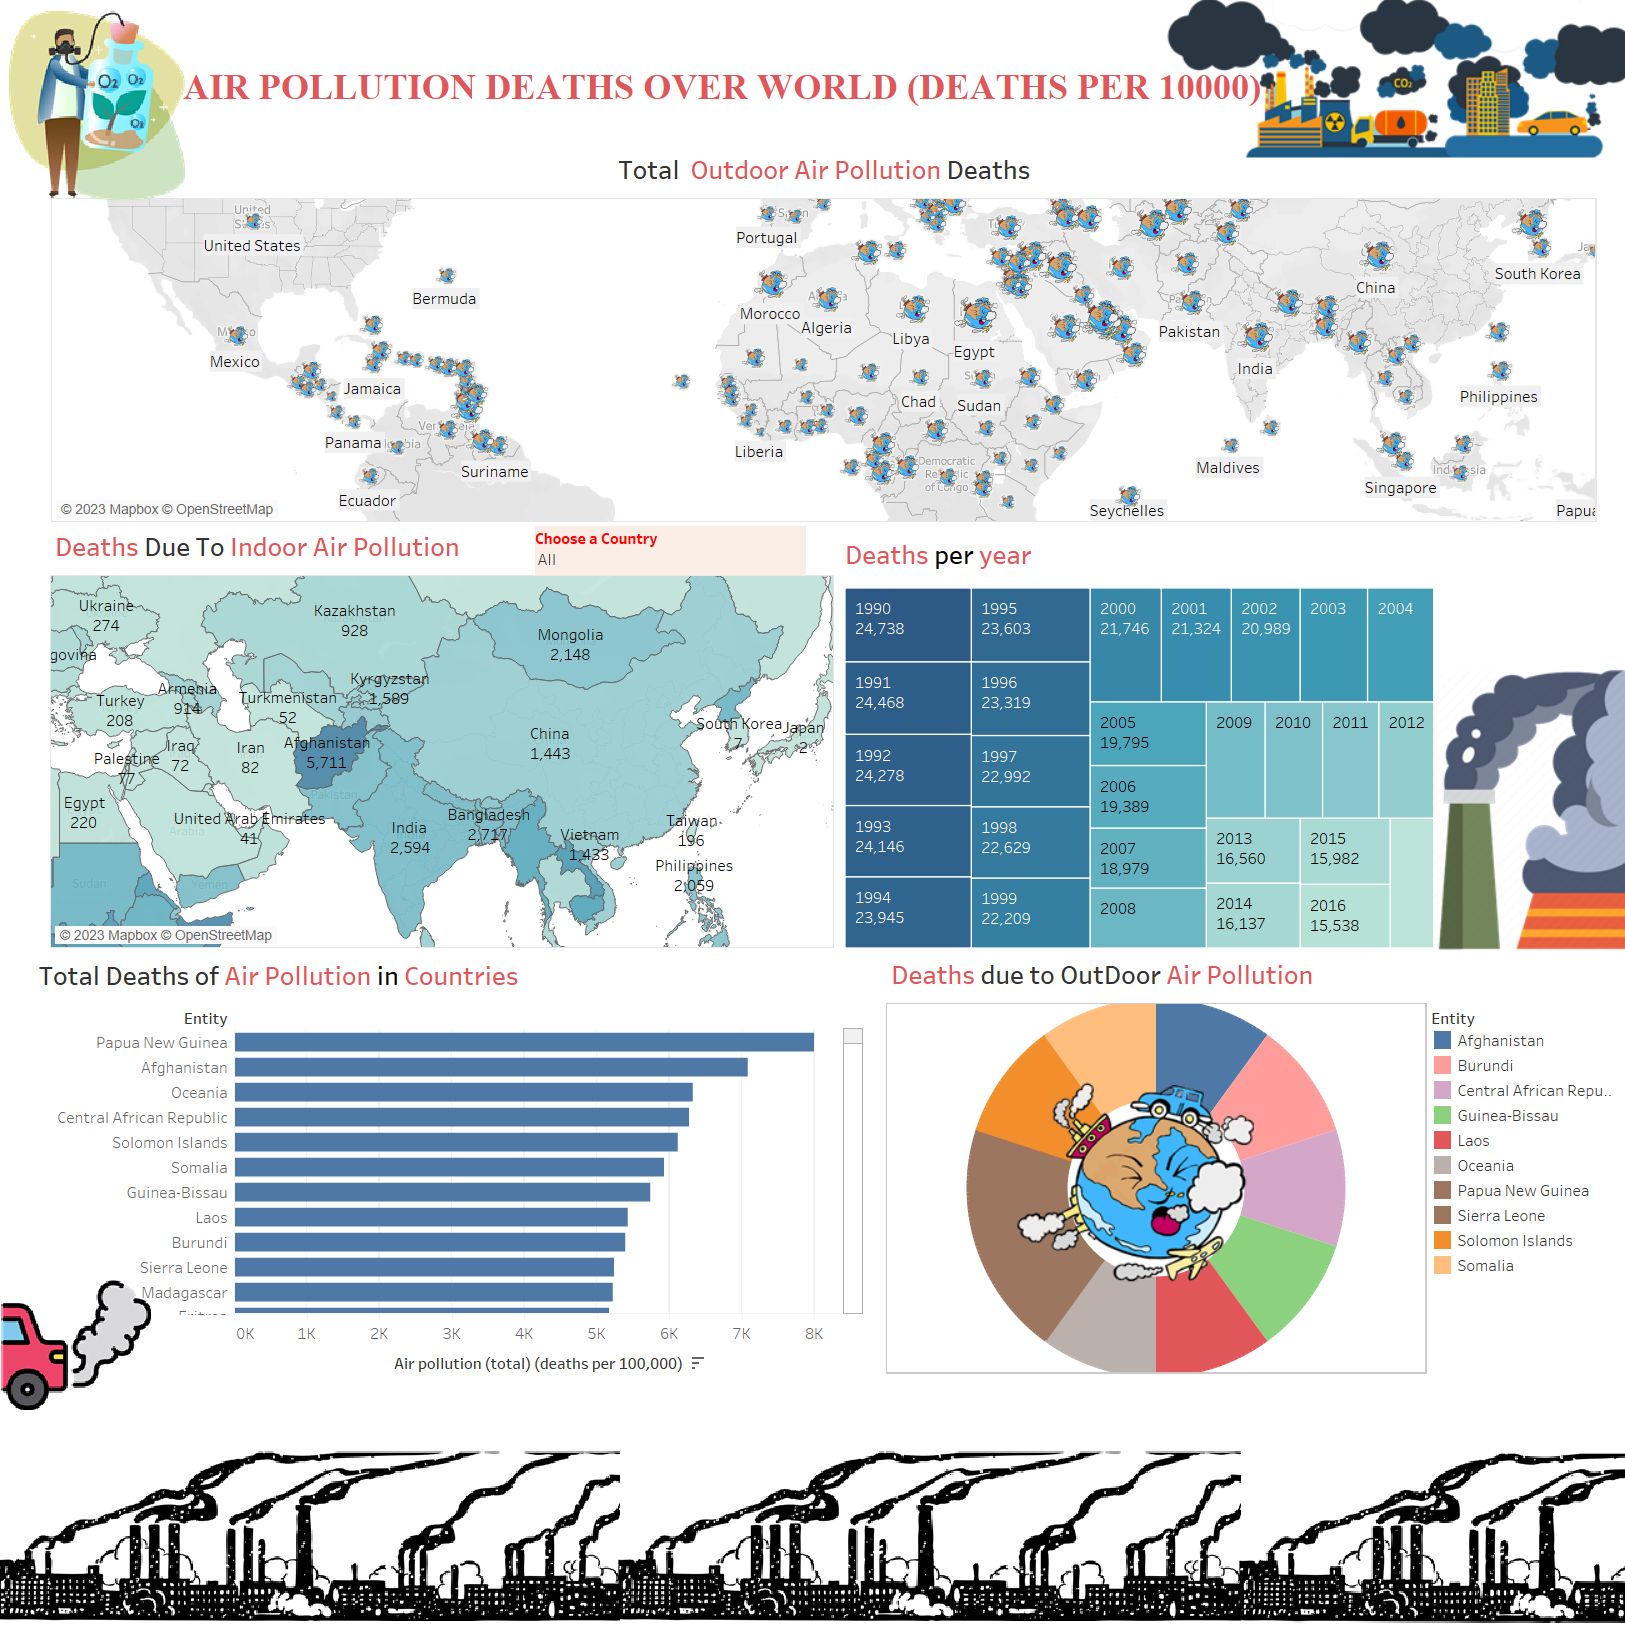

The page's visual inventory and layout, read from the dashboard file:
{"tool":"tableau","page":{"name":"Dashboard 1","canvas":[1300,1300],"ordinal":0},"visuals":[{"type":"image","param":"C:/Users/Gokulnath/Downloads/Air-Pollution-PNG-Free-Image.png","box":[6,8,191,152]},{"type":"text","box":[144,40,910,60]},{"type":"worksheet","title":"Sheet 6","mark":"Shape","box":[41,115,1237,303]},{"type":"worksheet","title":"Sheet 3","mark":"Automatic","box":[40,417,628,342]},{"type":"filter","title":"Sheet 3","param":"[federated.1opr4ag1erft6012meyma09g7veg].[none:Entity:nk]","box":[428,421,217,40]},{"type":"worksheet","title":"Sheet 2","mark":"Automatic","box":[672,423,488,340]},{"type":"worksheet","title":"Sheet 5","mark":"Pie","cols":["Calculation_748723452020363264","Calculation_748723452020363264"],"box":[709,759,433,340]},{"type":"worksheet","title":"Sheet 1","mark":"Automatic","rows":["Entity"],"cols":["Air pollution (total) (deaths per 100,000)"],"box":[27,760,664,346]},{"type":"legend","title":"Sheet 5","param":"[federated.1opr4ag1erft6012meyma09g7veg].[none:Entity:nk]","box":[1144,804,146,413]},{"type":"image","param":"C:/Users/Gokulnath/Downloads/Air-Pollution-PNG-Clipart.png","box":[813,866,215,159]},{"type":"image","param":"C:/Users/Gokulnath/Downloads/Car-Air-Pollution-PNG-Image.png","box":[1,1008,234,120]}]}

Visuals, with their boxes in screenshot pixels (x1, y1, x2, y2), scaled from the page's 1300x1300 canvas onto the 1625x1625 screenshot:
image: [left=8, top=10, right=246, bottom=200]
text: [left=180, top=50, right=1318, bottom=125]
"Sheet 6" worksheet (Shape marks): [left=51, top=144, right=1598, bottom=522]
"Sheet 3" worksheet: [left=50, top=521, right=835, bottom=949]
"Sheet 3" filter: [left=535, top=526, right=806, bottom=576]
"Sheet 2" worksheet: [left=840, top=529, right=1450, bottom=954]
"Sheet 5" worksheet (Pie marks): [left=886, top=949, right=1428, bottom=1374]
"Sheet 1" worksheet: [left=34, top=950, right=864, bottom=1382]
"Sheet 5" legend: [left=1430, top=1005, right=1612, bottom=1521]
image: [left=1016, top=1082, right=1285, bottom=1281]
image: [left=1, top=1260, right=294, bottom=1410]
